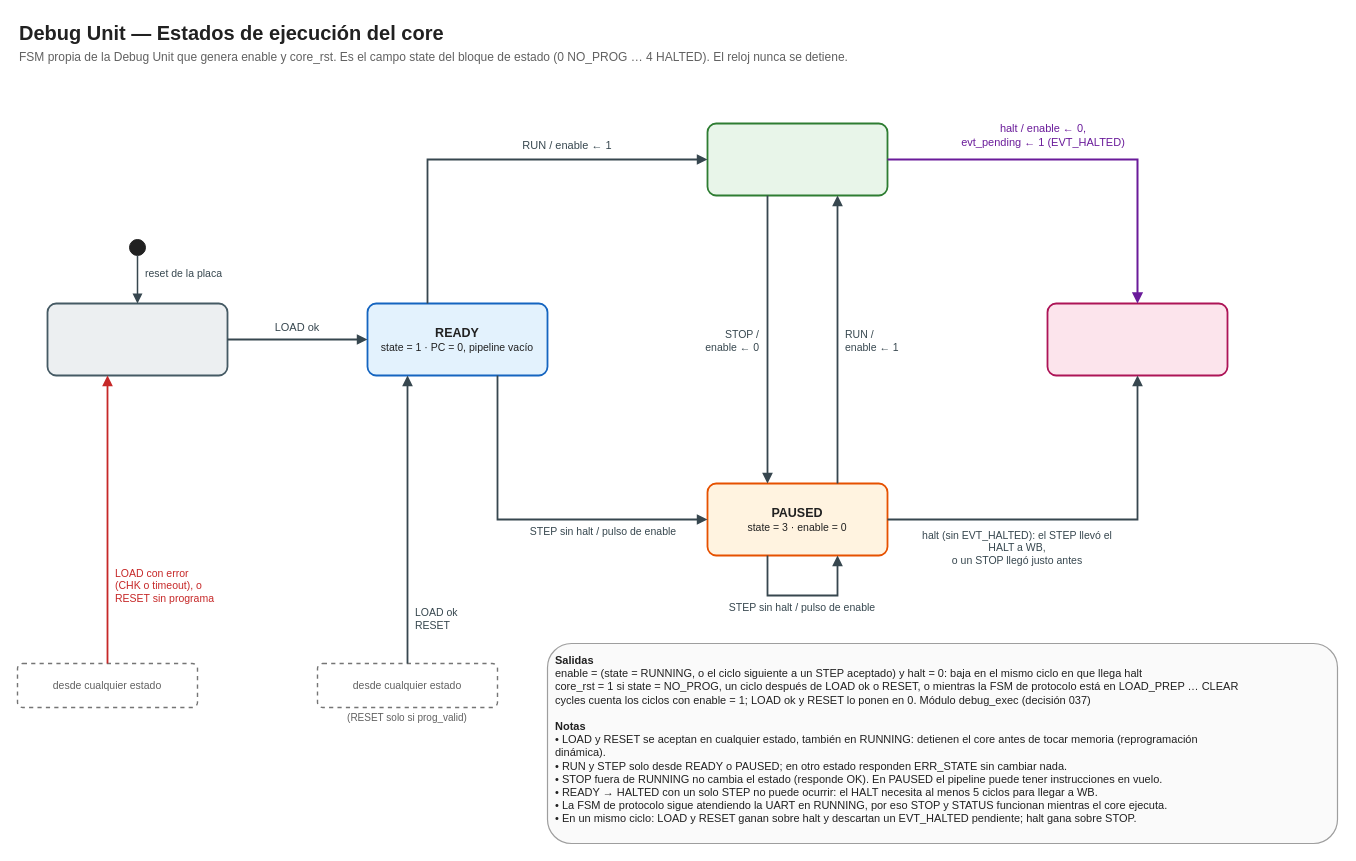
This 1356x861 diagram has some shape labels left out. Each missing label, with the centre of its shape:
"HALTED state = 4 · pipeline vacío" goes at point 1137,339.
"NO_PROG state = 0 · core en reset" goes at point 137,339.
"RUNNING state = 2 · enable = 1" goes at point 797,159.
